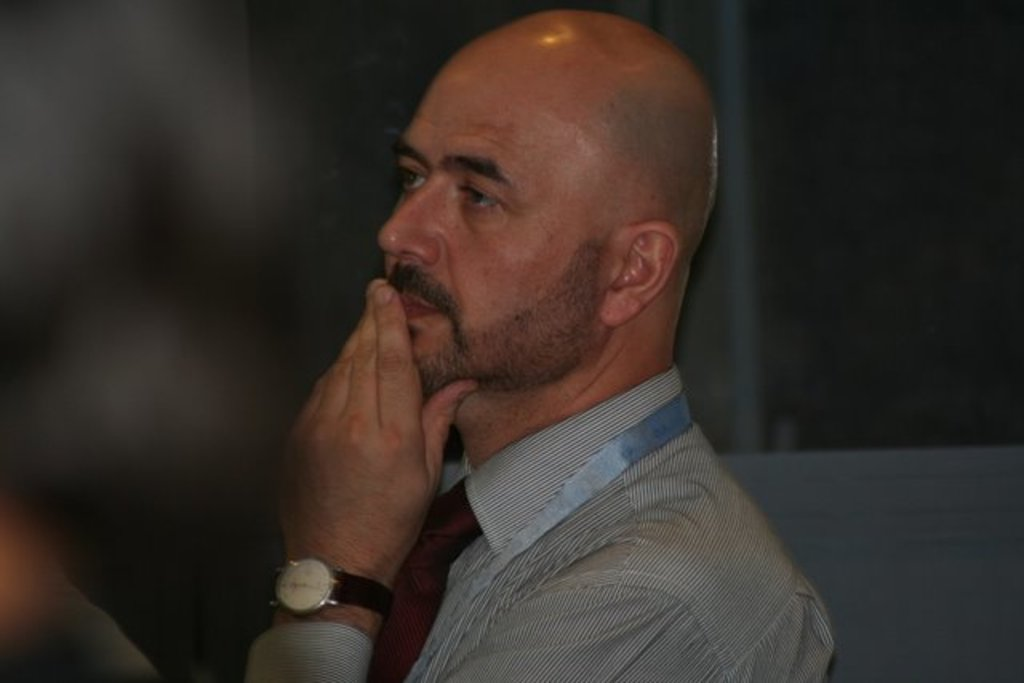watch: (260, 553, 395, 620)
